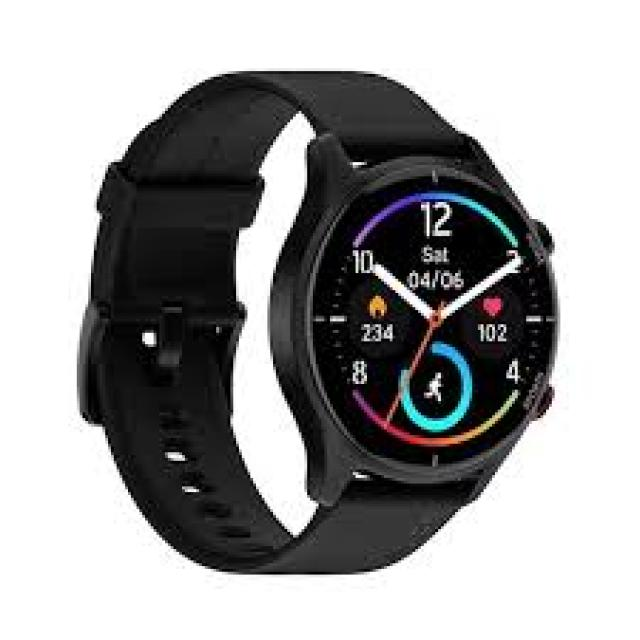objects: (80, 70, 555, 578)
